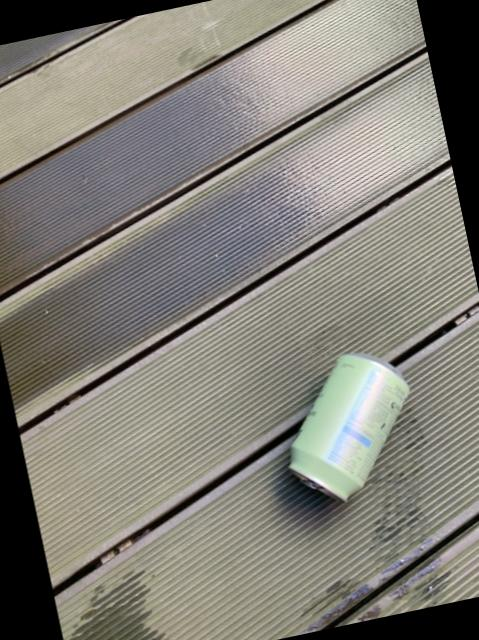metal: (289, 352, 408, 499)
